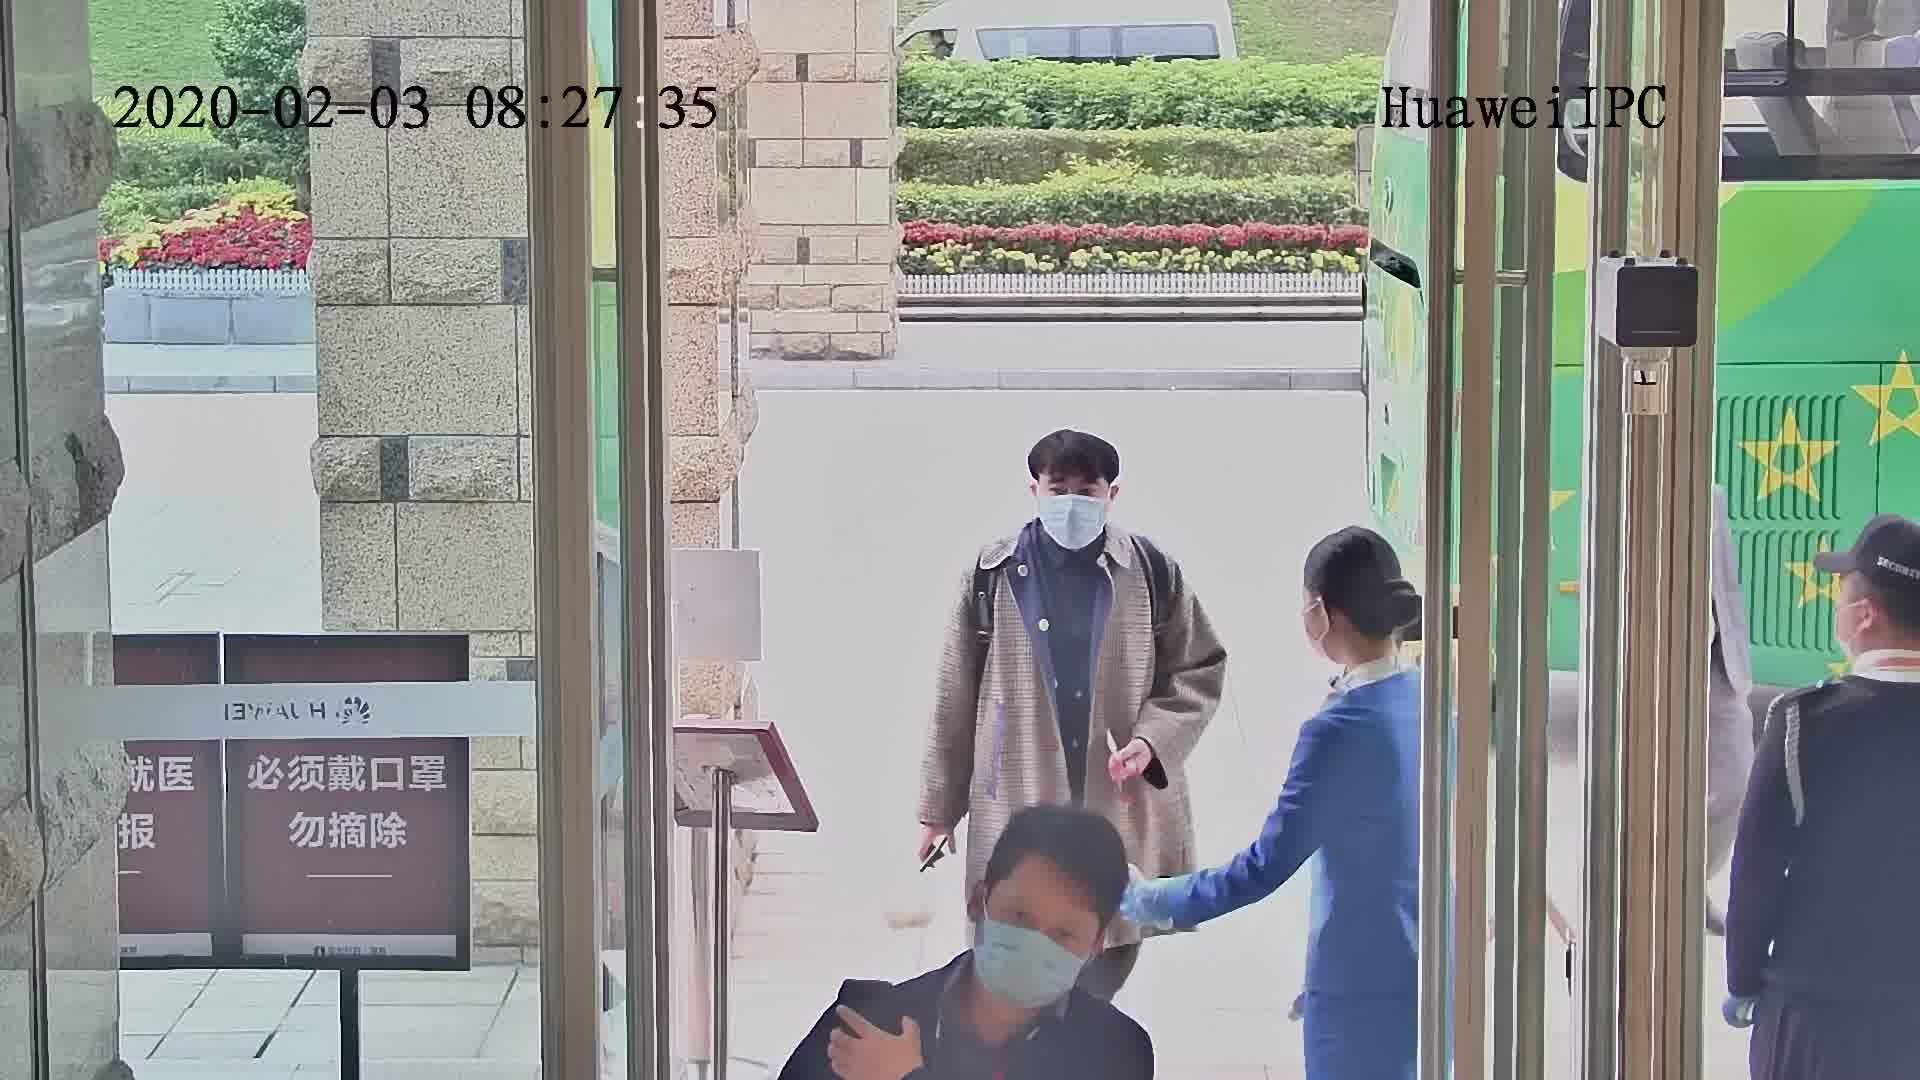face: (980, 869, 1098, 1013), (1038, 475, 1118, 558)
mask: (971, 922, 1087, 1009), (1036, 498, 1107, 553)
person: (893, 784, 1161, 1076), (949, 426, 1182, 615), (1763, 512, 1920, 782), (1288, 521, 1423, 779)
